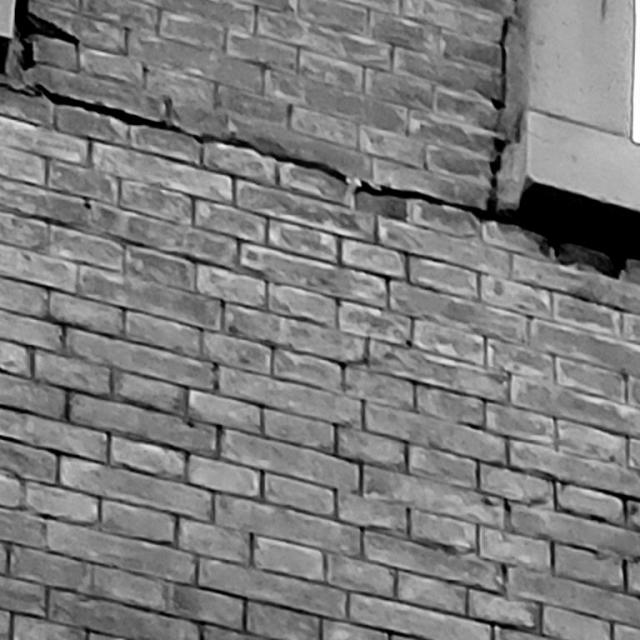crack: (1, 1, 640, 278)
